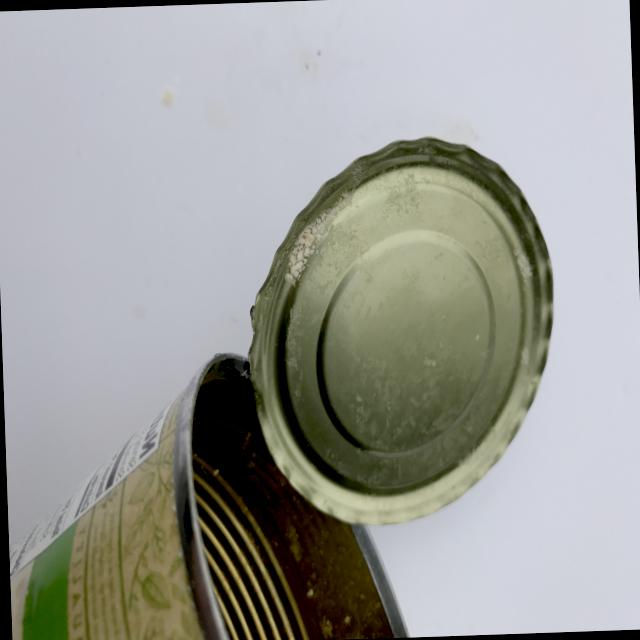Metal: (0, 124, 585, 640)
